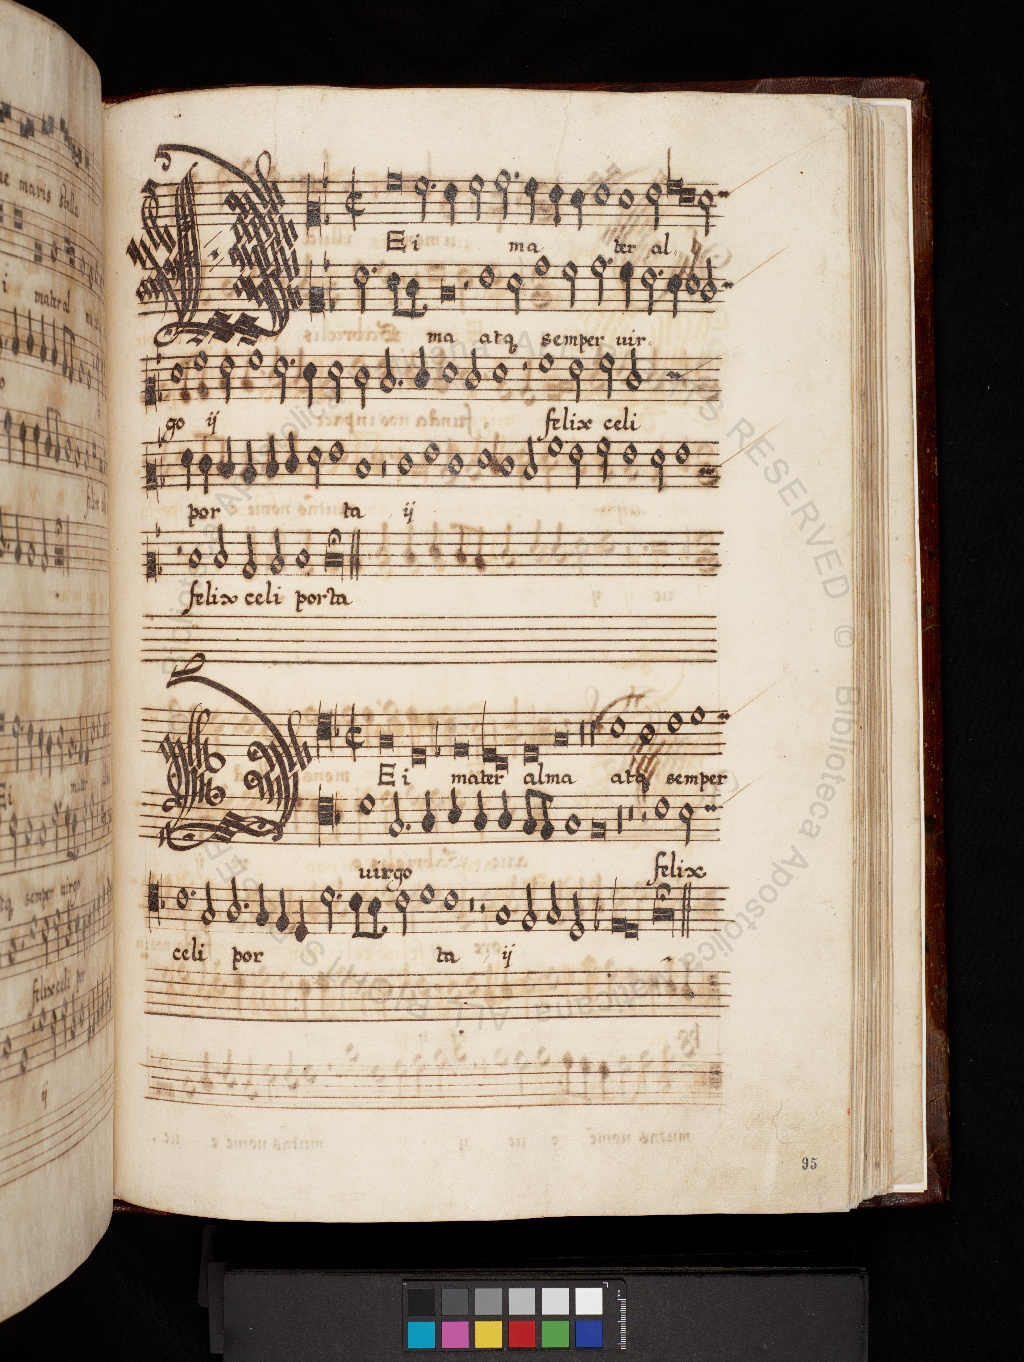Imincut: (337, 164, 373, 238)
breve_3: (378, 160, 409, 203)
c clef_9: (301, 173, 322, 241)
custos_5: (712, 172, 742, 212)
flat_10: (317, 178, 335, 233)
flat_3: (314, 146, 335, 196)
l1semibreve_4: (662, 141, 683, 207)
l2semibreve_5: (677, 181, 698, 207)
minim_3: (492, 164, 514, 228)
minim_4: (467, 166, 488, 228), (410, 168, 430, 229)
minim_5: (642, 176, 663, 235)
minim_6: (696, 180, 717, 242)
point: (504, 164, 522, 186), (424, 176, 440, 196)
semibreve_5: (588, 173, 613, 215)
semibreve_6: (614, 180, 639, 217)
semiminim_4: (521, 169, 541, 231)
semiminim_5: (441, 172, 460, 232), (547, 174, 566, 236)
semiminim_6: (569, 178, 588, 236)
